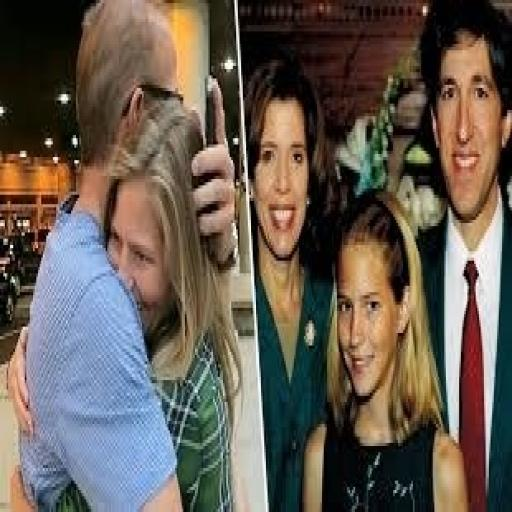hugging: (8, 3, 509, 509), (12, 3, 241, 509), (412, 0, 510, 509), (240, 50, 338, 509)
